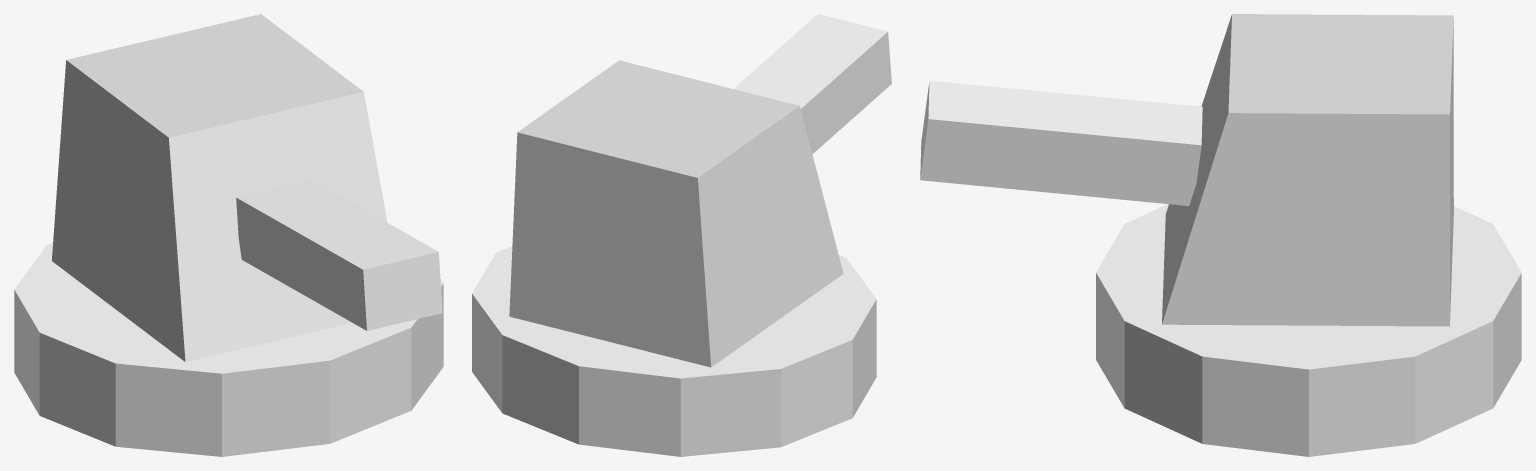
Rendered from Weapon2.fbx.
3 views of the same model, side by side, from view 1: azimuth 30°, elevation 25°; view 2: azimuth 150°, elevation 25°; view 3: azimuth 270°, elevation 25° (orthographic). The views are drawn at different scales.
Visible parts, largest first — view 1: Weapon2; view 2: Weapon2; view 3: Weapon2.
Part boxes in pixels (x1,y1,x2,y2): Weapon2: [14, 14, 443, 456]; Weapon2: [472, 14, 891, 456]; Weapon2: [920, 14, 1521, 456].
Size of the model in its own units: 49.62 by 35.32 by 64.97.
